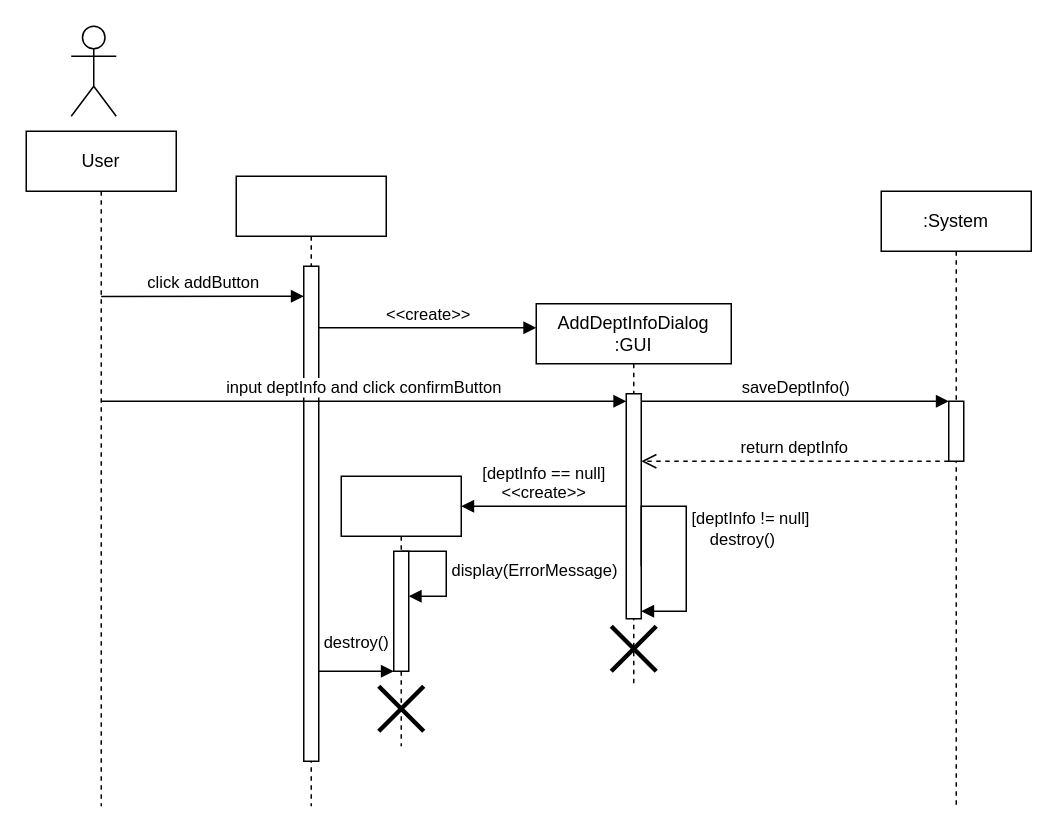
This 1058x833 diagram has some shape labels left out. Each missing label, with the box of its shape:
DeptManagePage :GUI: (235, 175, 386, 806)
SystemError :GUI: (340, 475, 461, 746)
